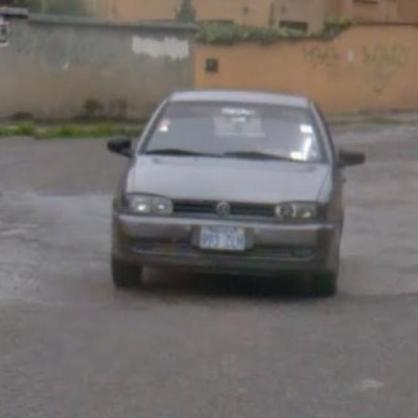car: (109, 88, 368, 300)
